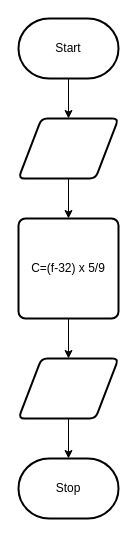
This 136x536 diagram has some shape labels left out. Here are the shapes that lost their labels. From the top down, the centre of each, then its label:
At (68,148): "Input farhenheit".
At (68,388): "celcius".
